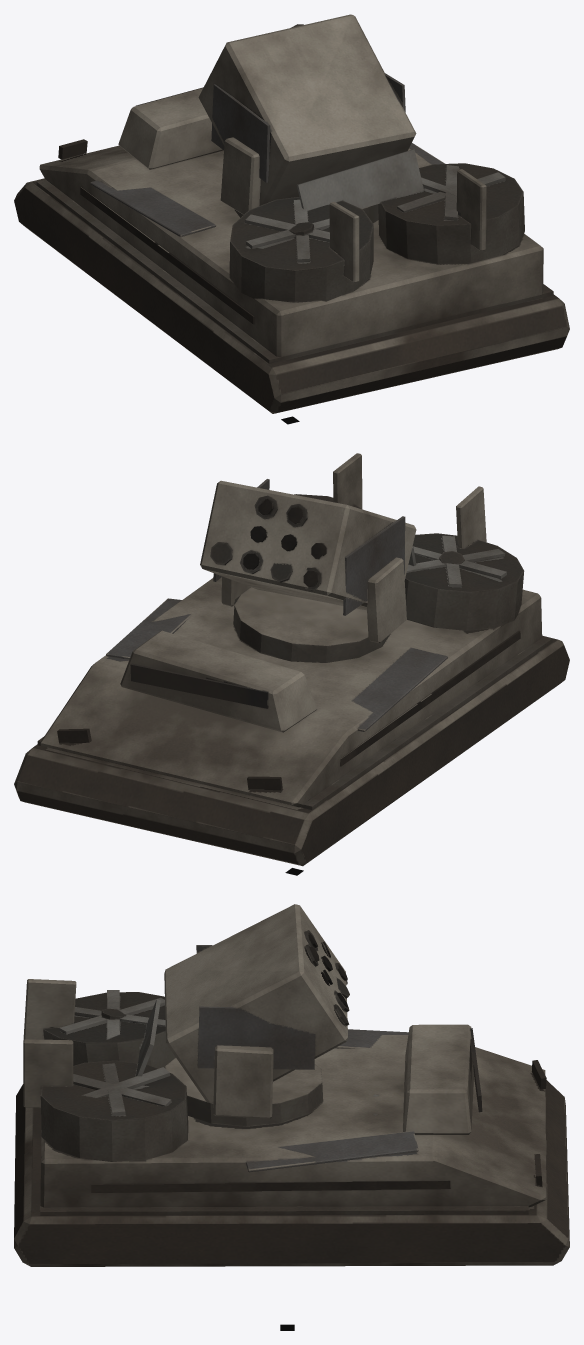
The model's file is ord_volley_wreck.fbx.
The picture shows the model from 3 angles, top to bottom: view 1: azimuth 30°, elevation 25°; view 2: azimuth 150°, elevation 25°; view 3: azimuth 270°, elevation 25°; orthographic projection. The views are drawn at different scales.
Visible parts, largest first — view 1: base_bar, turret_bar, fan1_bar, fan2_bar; view 2: base_bar, turret_bar, fan1_bar; view 3: base_bar, turret_bar, fan2_bar, fan1_bar.
Part boxes in pixels (bbox=[...]): base_bar: bbox=[14, 87, 569, 413]; turret_bar: bbox=[198, 14, 423, 223]; fan1_bar: bbox=[245, 199, 329, 262]; fan2_bar: bbox=[397, 165, 505, 220]; base_bar: bbox=[14, 453, 569, 866]; turret_bar: bbox=[200, 479, 416, 662]; fan1_bar: bbox=[406, 535, 506, 587]; base_bar: bbox=[14, 979, 569, 1266]; turret_bar: bbox=[136, 904, 349, 1126]; fan2_bar: bbox=[73, 1063, 171, 1115]; fan1_bar: bbox=[59, 990, 165, 1039].
Size of the model in its own units: 485 by 609 by 776.
Materials: 2 (2 with a texture image).
